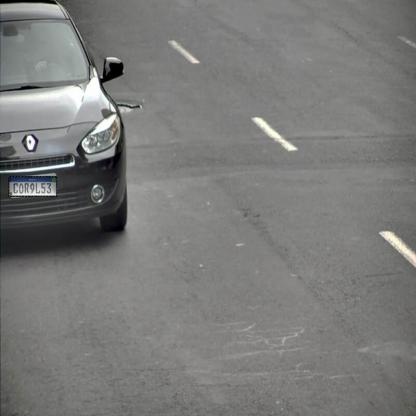PlacaM: (8, 176, 58, 197)
